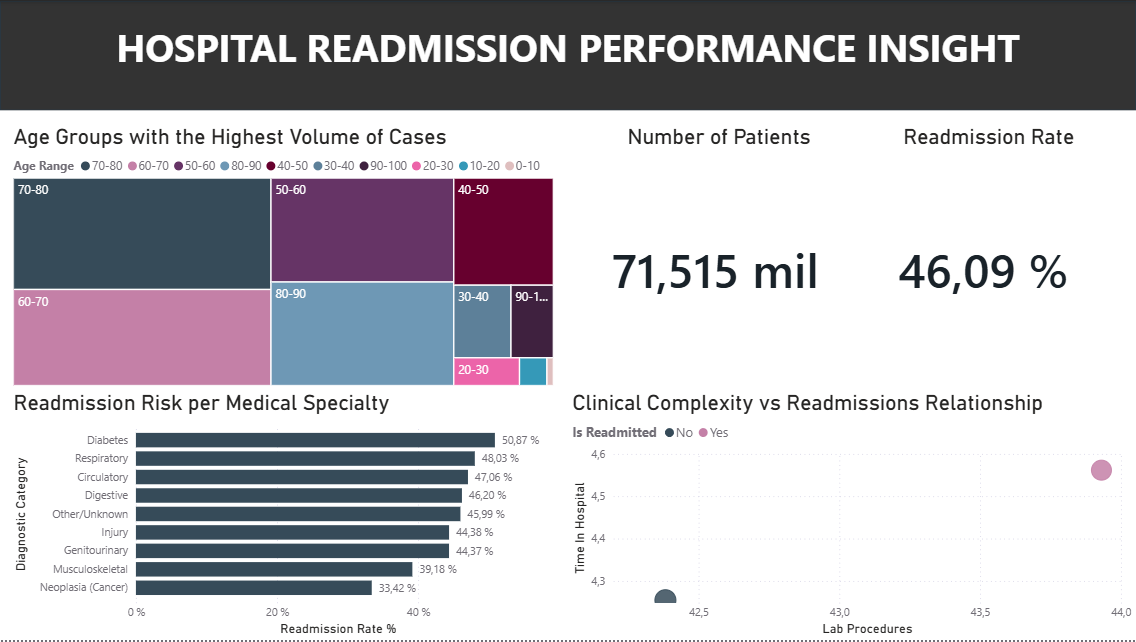

This screenshot's page, from the dashboard's own definition file:
{"tool":"powerbi","page":{"name":"Página 1","canvas":[1280,720],"ordinal":0},"visuals":[{"type":"clusteredBarChart","title":"Readmission Risk per Medical Specialty","fields":{"Category":["medical_analysis_view_202602161502.diagnostic_category"],"Y":["medical_analysis_view_202602161502.Readmission Rate %"]},"box":[10,438.3,618.3,281.7],"z":0},{"type":"scatterChart","title":"Clinical Complexity vs Readmissions Relationship","fields":{"X":["Avg(medical_analysis_view_202602161502.lab_procedures_count)"],"Y":["Avg(medical_analysis_view_202602161502.time_in_hospital)"],"Series":["medical_analysis_view_202602161502.is_readmitted"],"Size":["Sum(medical_analysis_view_202602161502.medications_count)"]},"box":[640,438.3,640,281.7],"z":1000},{"type":"treemap","title":" Age Groups with the Highest Volume of Cases","fields":{"Group":["medical_analysis_view_202602161502.age_range"],"Values":["CountNonNull(medical_analysis_view_202602161502.patient_nbr)"]},"box":[10,138.3,618.3,300],"z":2000},{"type":"cardVisual","title":"Number of Patients","fields":{"Data":["Count(medical_analysis_view_202602161502.patient_nbr)"]},"box":[660,138.3,300,300],"z":3000},{"type":"cardVisual","title":"Readmission Rate","fields":{"Data":["medical_analysis_view_202602161502.Readmission Rate %"]},"box":[960,138.3,308.3,300],"z":4000},{"type":"shape","box":[0,0,1280,123.3],"z":5000},{"type":"textbox","box":[0,18.3,1280,90],"z":6000}]}

Visuals, with their boxes in screenshot pixels (x1, y1, x2, y2), scaled from the page's 1280x720 canvas onto the 1136x642 screenshot:
"Readmission Risk per Medical Specialty" clusteredBarChart: [9, 391, 558, 641]
"Clinical Complexity vs Readmissions Relationship" scatterChart: [568, 391, 1135, 641]
" Age Groups with the Highest Volume of Cases" treemap: [9, 123, 558, 391]
"Number of Patients" cardVisual: [586, 123, 852, 391]
"Readmission Rate" cardVisual: [852, 123, 1126, 391]
shape: [0, 0, 1135, 110]
textbox: [0, 16, 1135, 97]
